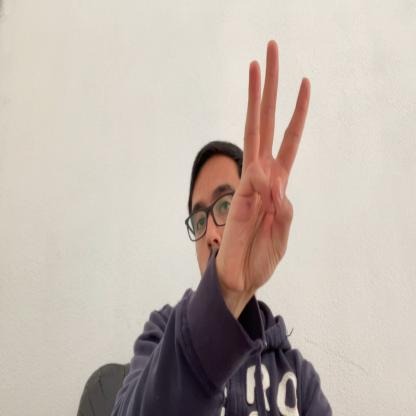W: (225, 38, 310, 304)
